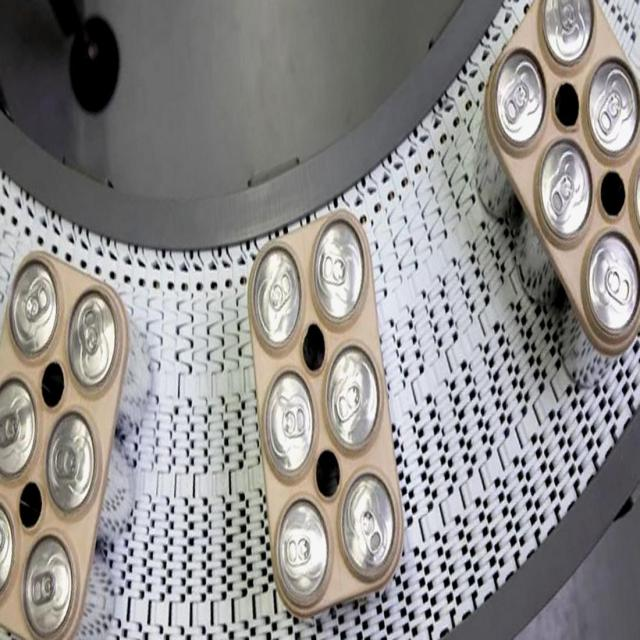bottle: (245, 207, 405, 619), (483, 0, 639, 358), (0, 247, 130, 638)
